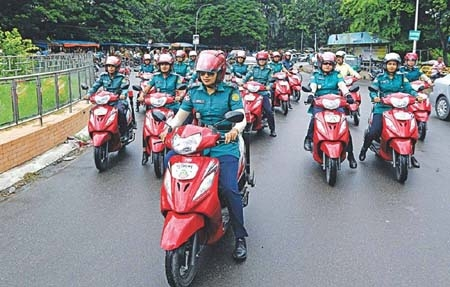car: (429, 63, 450, 121)
scooter: (150, 110, 258, 287), (301, 84, 359, 187), (367, 82, 423, 182), (133, 82, 188, 178), (79, 83, 130, 172), (239, 75, 276, 134), (409, 78, 437, 143), (271, 68, 297, 115), (345, 74, 364, 127), (134, 70, 153, 112), (288, 65, 305, 103)
three wheelers (CNG): (346, 53, 362, 74)
